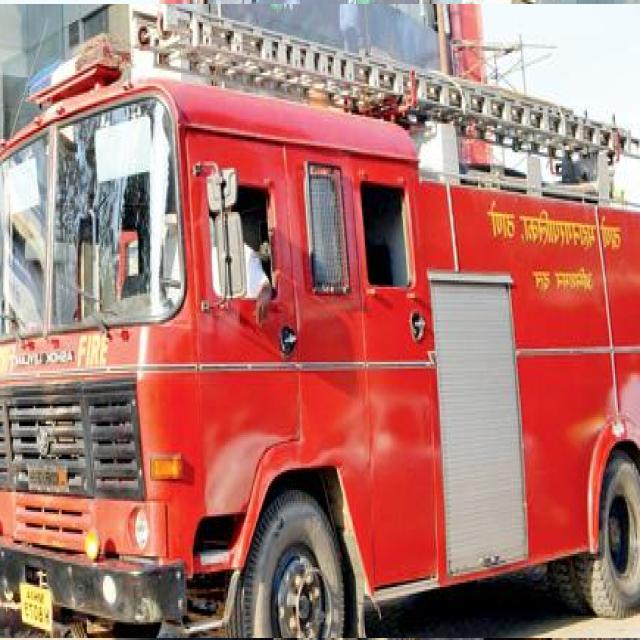emergency: (0, 4, 640, 638)
